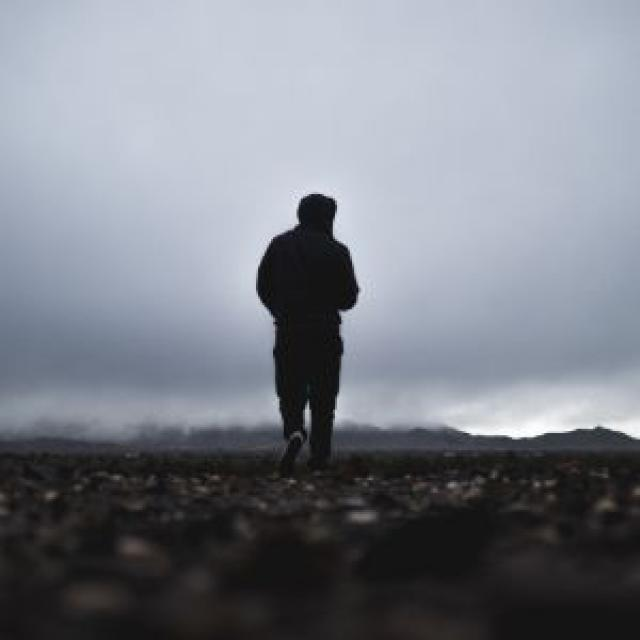nonfall: (260, 154, 347, 459)
